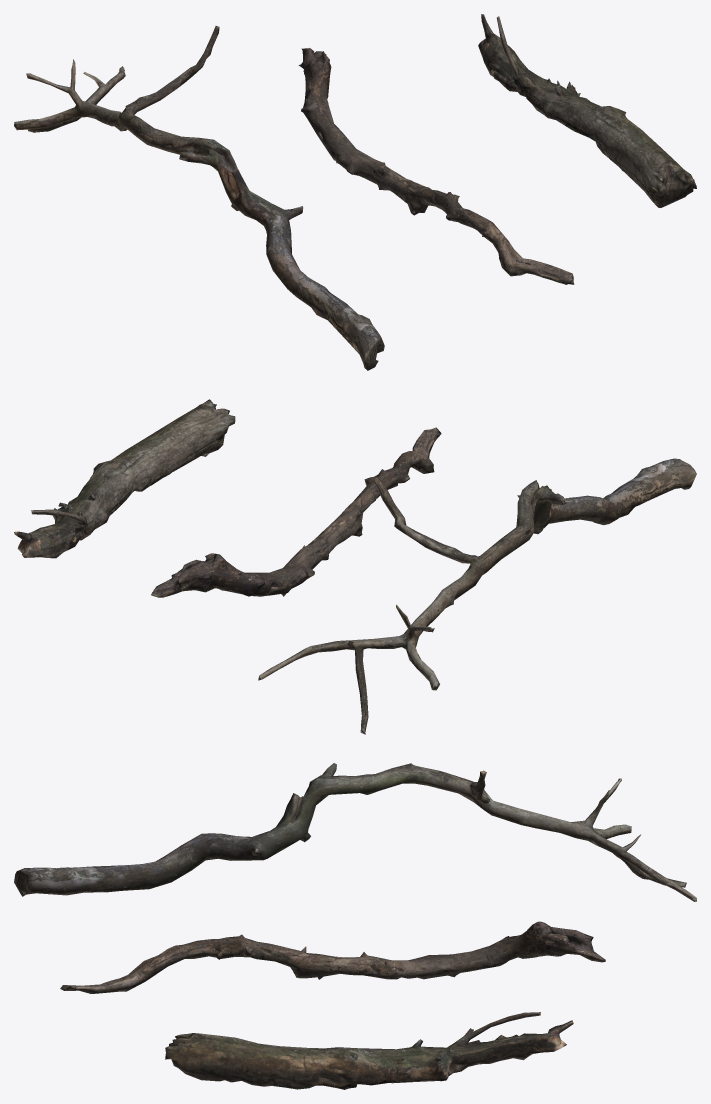
Rendered from dbranch.glb.
3 views of the same model, one above another, from view 1: azimuth 30°, elevation 25°; view 2: azimuth 150°, elevation 25°; view 3: azimuth 270°, elevation 25° (orthographic). The views are drawn at different scales.
Parts seen in each view (by area): view 1: dbranch; view 2: dbranch; view 3: dbranch.
Boxes of the visible parts, box(x1,y1,x2,y2) form: dbranch: box(14, 14, 696, 370); dbranch: box(14, 399, 696, 734); dbranch: box(14, 763, 696, 1089).
Bounding box in the file's own units: 1.06 × 0.3391 × 1.3.
Materials: 1 (1 with a texture image).
